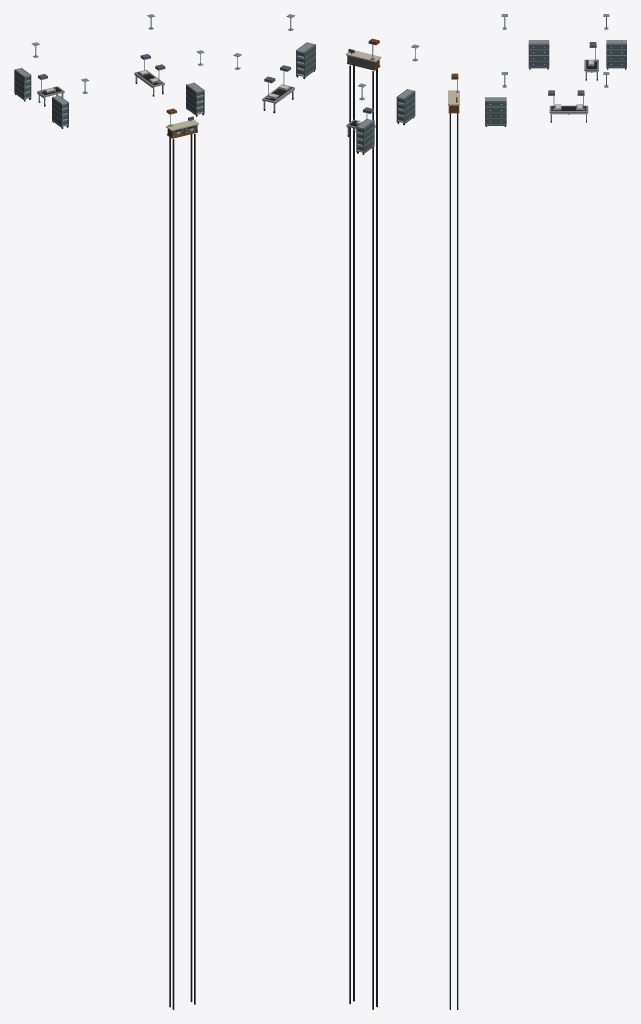
File: G8_LIBRARY_SERVICE_r001_unbatched.glb
3 views of the same model, side by side, from view 1: azimuth 30°, elevation 25°; view 2: azimuth 150°, elevation 25°; view 3: azimuth 270°, elevation 25° (orthographic). The views are drawn at different scales.
Parts seen in each view (by area): view 1: G8L_PublicReturns_Pad(-1.0, 0.28), G8L_PublicReturns_Pad(1.0, -0.28), G8L_PublicReturns_Pad(-1.0, -0.28), G8L_PublicReturns_Pad(1.0, 0.28); view 2: G8L_PublicReturns_Pad(-1.0, 0.28), G8L_PublicReturns_Pad(1.0, -0.28), G8L_PublicReturns_Pad(1.0, 0.28), G8L_PublicReturns_Pad(-1.0, -0.28); view 3: G8L_PublicReturns_Pad(1.0, -0.28), G8L_PublicReturns_Pad(1.0, 0.28), G8L_ReadyCollectionHold_BackFrontPost1, G8L_DispatchCollectionHold_BackFrontPost1, G8L_QuarantinedFolioHold_BackFrontPost1.
Boxes of the visible parts, box(x1,y1,x2,y2) form: G8L_PublicReturns_Pad(-1.0, 0.28): box(172, 139, 174, 1009); G8L_PublicReturns_Pad(1.0, -0.28): box(190, 134, 192, 1002); G8L_PublicReturns_Pad(-1.0, -0.28): box(169, 137, 170, 1007); G8L_PublicReturns_Pad(1.0, 0.28): box(194, 134, 195, 1004); G8L_PublicReturns_Pad(-1.0, 0.28): box(376, 68, 377, 1006); G8L_PublicReturns_Pad(1.0, -0.28): box(349, 65, 350, 1004); G8L_PublicReturns_Pad(1.0, 0.28): box(353, 65, 354, 1001); G8L_PublicReturns_Pad(-1.0, -0.28): box(372, 71, 373, 1009); G8L_PublicReturns_Pad(1.0, -0.28): box(457, 113, 458, 1009); G8L_PublicReturns_Pad(1.0, 0.28): box(449, 113, 450, 1009); G8L_ReadyCollectionHold_BackFrontPost1: box(528, 43, 549, 68); G8L_DispatchCollectionHold_BackFrontPost1: box(485, 101, 506, 125); G8L_QuarantinedFolioHold_BackFrontPost1: box(606, 43, 626, 68).
Bounding box in the file's own units: 12.13 × 82.76 × 14.07.
9 materials, 8 textured.
